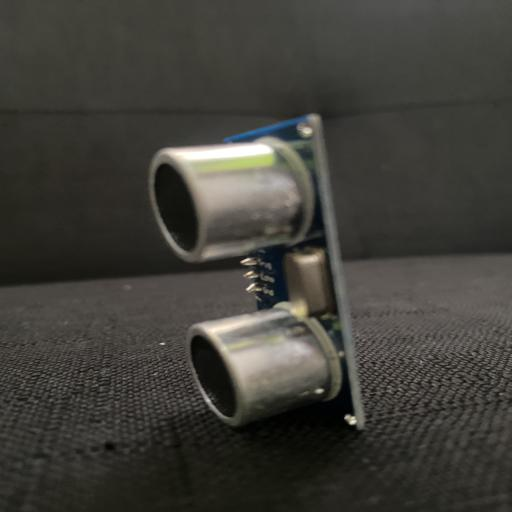Ultrasonic Sensor: (146, 113, 368, 434)
